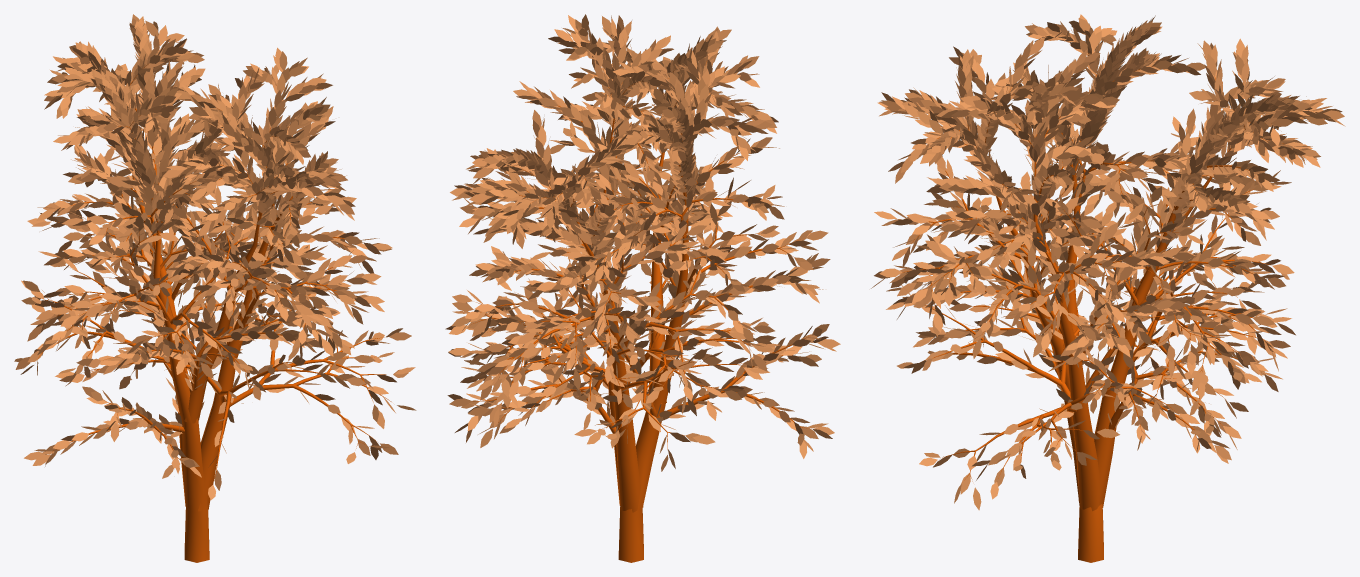
Rendered from brownTree.fbx.
The picture shows the model from 3 angles, left to right: view 1: azimuth 30°, elevation 25°; view 2: azimuth 150°, elevation 25°; view 3: azimuth 270°, elevation 25°; orthographic projection. The views are drawn at different scales.
Parts seen in each view (by area): view 1: leaves, tree; view 2: leaves, tree; view 3: leaves, tree.
Part boxes in pixels (x1=…): leaves: x1=14, y1=14, x2=416, y2=499; tree: x1=37, y1=48, x2=391, y2=562; leaves: x1=445, y1=14, x2=840, y2=471; tree: x1=472, y1=61, x2=816, y2=562; leaves: x1=871, y1=14, x2=1345, y2=510; tree: x1=902, y1=41, x2=1316, y2=562.
Bounding box in the file's own units: 1282 × 1652 × 1356.
